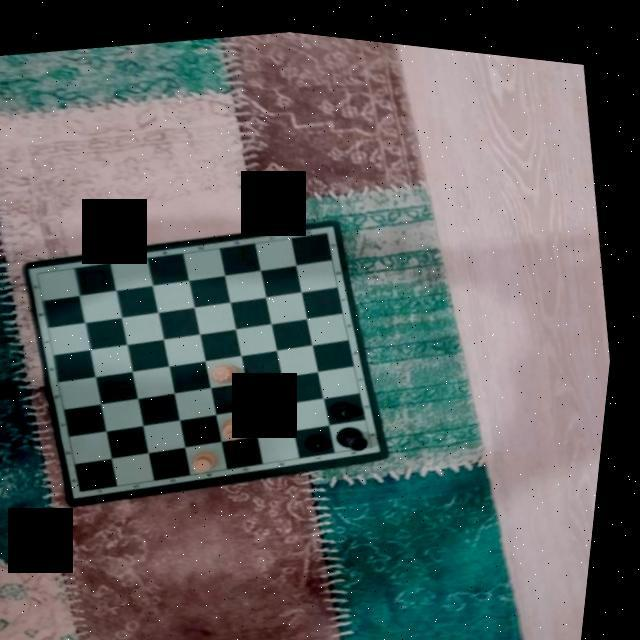chess-table-corners: (30, 263, 54, 282), (321, 217, 342, 234), (82, 480, 100, 496), (373, 430, 389, 444)
